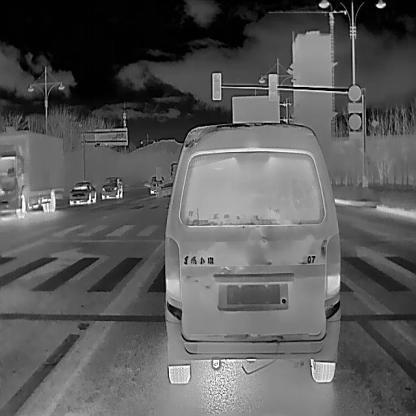car: (163, 117, 341, 386), (67, 178, 95, 206), (99, 174, 123, 198), (149, 175, 163, 195)
truck: (0, 132, 63, 218)
